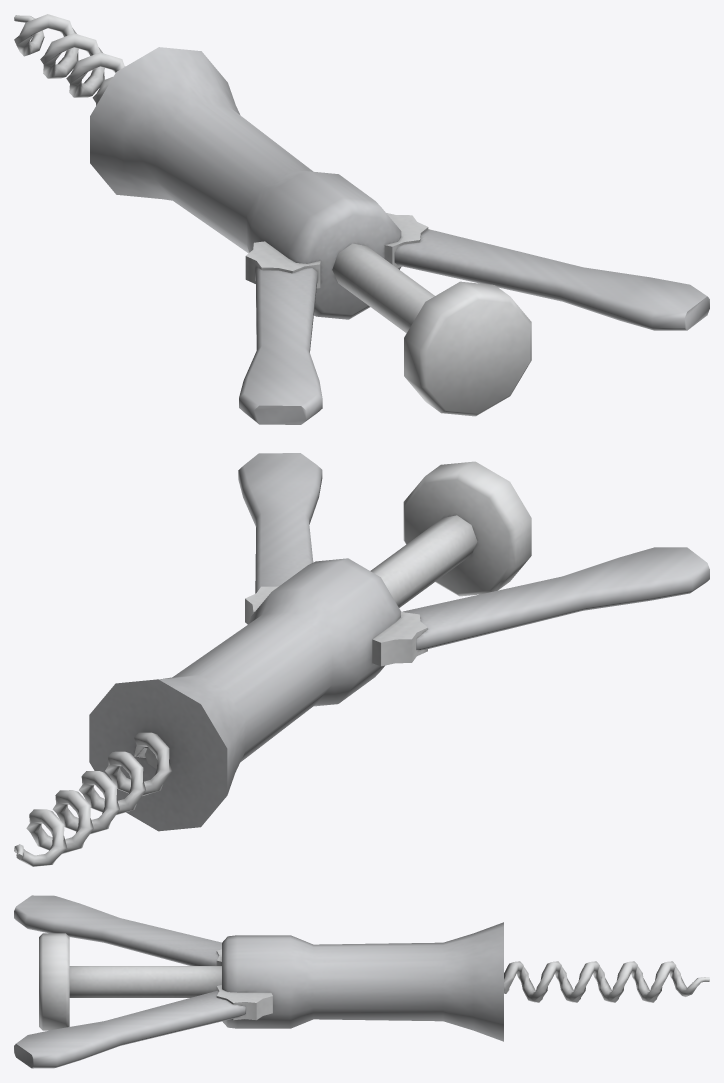
File: wing_corkscrew.glb
3 views of the same model, one above another, from view 1: azimuth 30°, elevation 25°; view 2: azimuth 150°, elevation 25°; view 3: azimuth 270°, elevation 25° (orthographic). The views are drawn at different scales.
Visible parts, largest first — view 1: d6_wing_corkscrew; view 2: d6_wing_corkscrew; view 3: d6_wing_corkscrew.
Boxes of the visible parts, x1,y1,x2,y2 form: d6_wing_corkscrew: (14, 14, 709, 424); d6_wing_corkscrew: (14, 453, 709, 866); d6_wing_corkscrew: (14, 895, 709, 1068).
Bounding box in the file's own units: 0.1006 × 0.032 × 0.1826.
Materials: 1 (1 with a texture image).
